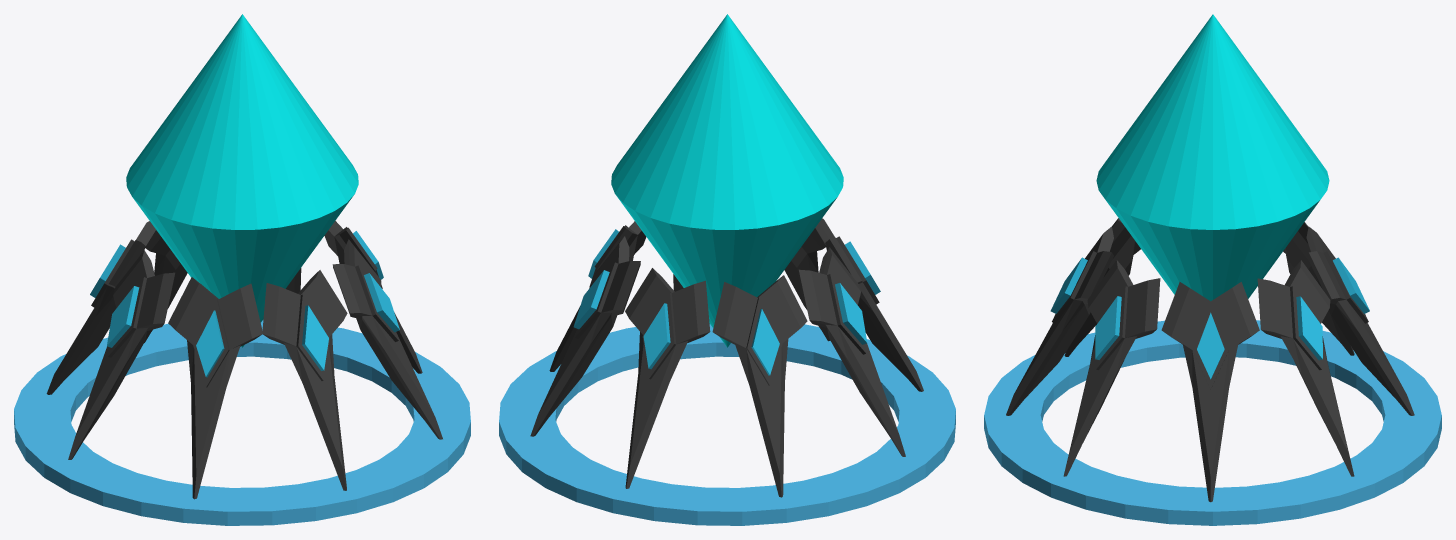
The model's file is Gatherer.fbx.
The picture shows the model from 3 angles, left to right: view 1: azimuth 30°, elevation 25°; view 2: azimuth 150°, elevation 25°; view 3: azimuth 270°, elevation 25°; orthographic projection.
Parts seen in each view (by area): view 1: Cone, BottomRing, Support.005, Support.007, Support, Support.003, Support.004, Support.001, Support.006; view 2: Cone, BottomRing, Support.004, Support.006, Support, Support.002, Support.005, Support.001, Support.007; view 3: Cone, BottomRing, Support.001, Support.003, Support.002, Support.006, Support.007, Support.005, Support.004.
Boxes of the visible parts, <box> form: Cone: <box>126,14,358,347</box>; BottomRing: <box>14,320,470,525</box>; Support.005: <box>168,277,262,499</box>; Support.007: <box>262,270,347,490</box>; Support: <box>68,250,175,459</box>; Support.003: <box>332,239,442,439</box>; Support.004: <box>46,221,155,394</box>; Support.001: <box>324,221,422,373</box>; Support.006: <box>144,230,187,342</box>; Cone: <box>611,14,843,347</box>; BottomRing: <box>499,324,955,525</box>; Support.004: <box>712,275,807,497</box>; Support.006: <box>625,268,710,488</box>; Support: <box>799,247,905,456</box>; Support.002: <box>530,236,640,436</box>; Support.005: <box>815,218,923,391</box>; Support.001: <box>549,221,646,371</box>; Support.007: <box>784,228,830,341</box>; Cone: <box>1096,14,1329,301</box>; BottomRing: <box>984,320,1441,525</box>; Support.001: <box>1161,282,1259,502</box>; Support.003: <box>1063,260,1160,476</box>; Support.002: <box>1257,260,1354,476</box>; Support.006: <box>1306,226,1414,415</box>; Support.007: <box>1006,226,1113,415</box>; Support.005: <box>1064,218,1140,356</box>; Support.004: <box>1283,222,1354,355</box>.
Bounding box in the file's own units: 199 × 199 × 199.
